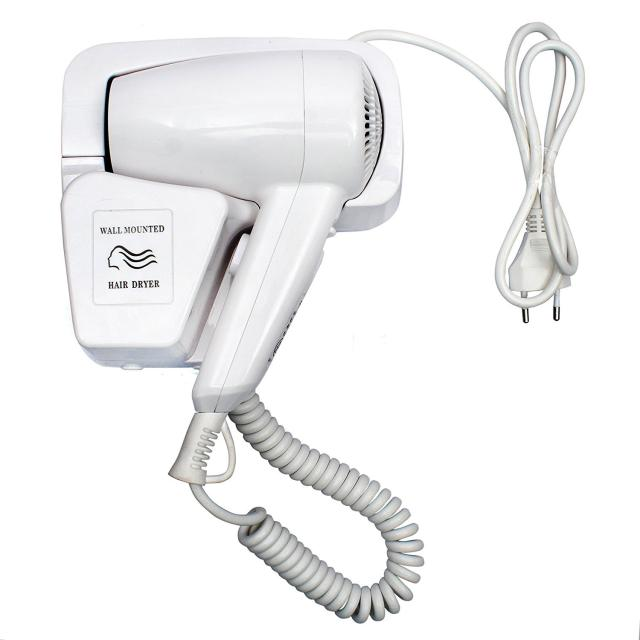dryer: (47, 23, 607, 626), (55, 32, 418, 400)
